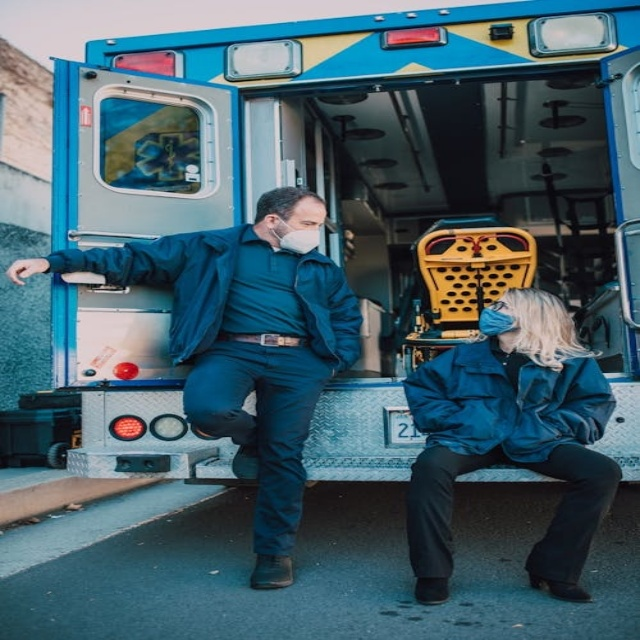Gafas: (487, 301, 509, 312)
Mascara: (269, 218, 322, 255), (478, 304, 518, 336)
Sin_gafas: (285, 215, 328, 230)
Sin_guantes: (6, 253, 54, 291)
